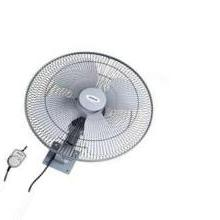fan: (0, 41, 157, 217)
